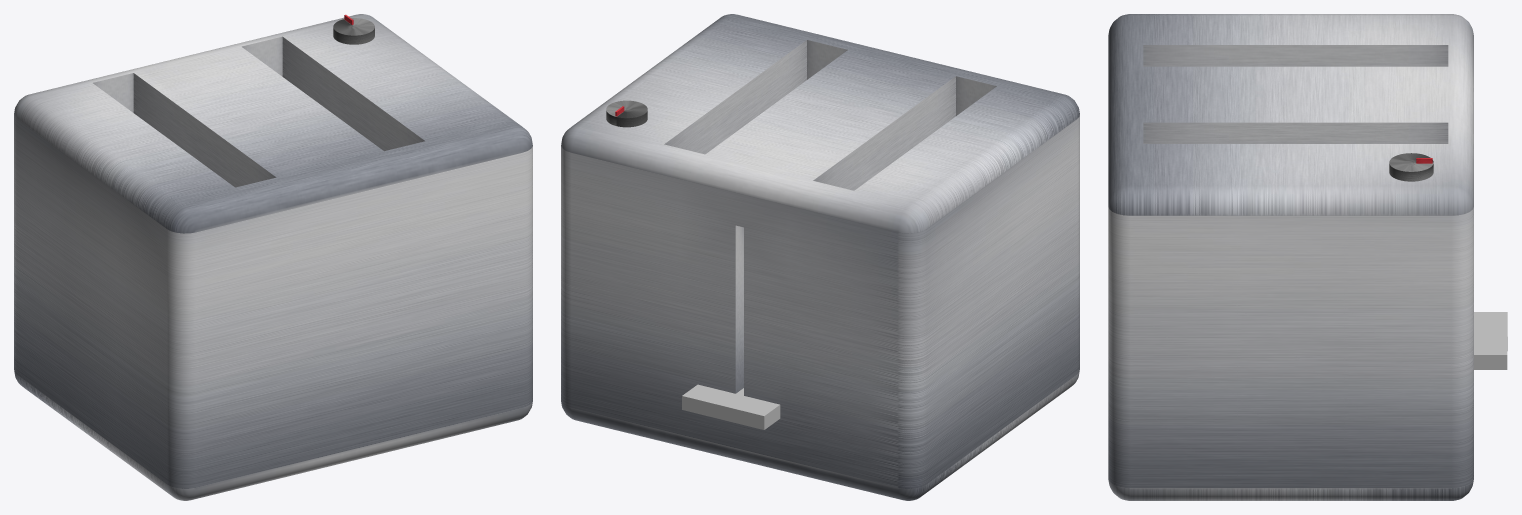
Rendered from toaster.obj.
The picture shows the model from 3 angles, left to right: view 1: azimuth 30°, elevation 25°; view 2: azimuth 150°, elevation 25°; view 3: azimuth 270°, elevation 25°; orthographic projection. The views are drawn at different scales.
Parts seen in each view (by area): view 1: ChamferBox001, Cylinder001; view 2: ChamferBox001, Box001, Cylinder001; view 3: ChamferBox001, Box001, Cylinder001.
Boxes of the visible parts, x1,y1,x2,y2 form: ChamferBox001: [14, 14, 532, 500]; Cylinder001: [333, 18, 374, 44]; ChamferBox001: [561, 14, 1079, 500]; Box001: [682, 384, 780, 429]; Cylinder001: [606, 100, 647, 127]; ChamferBox001: [1108, 14, 1473, 500]; Box001: [1474, 312, 1507, 369]; Cylinder001: [1389, 153, 1433, 181].
Size of the model in its own units: 22 by 17.79 by 19.66.
